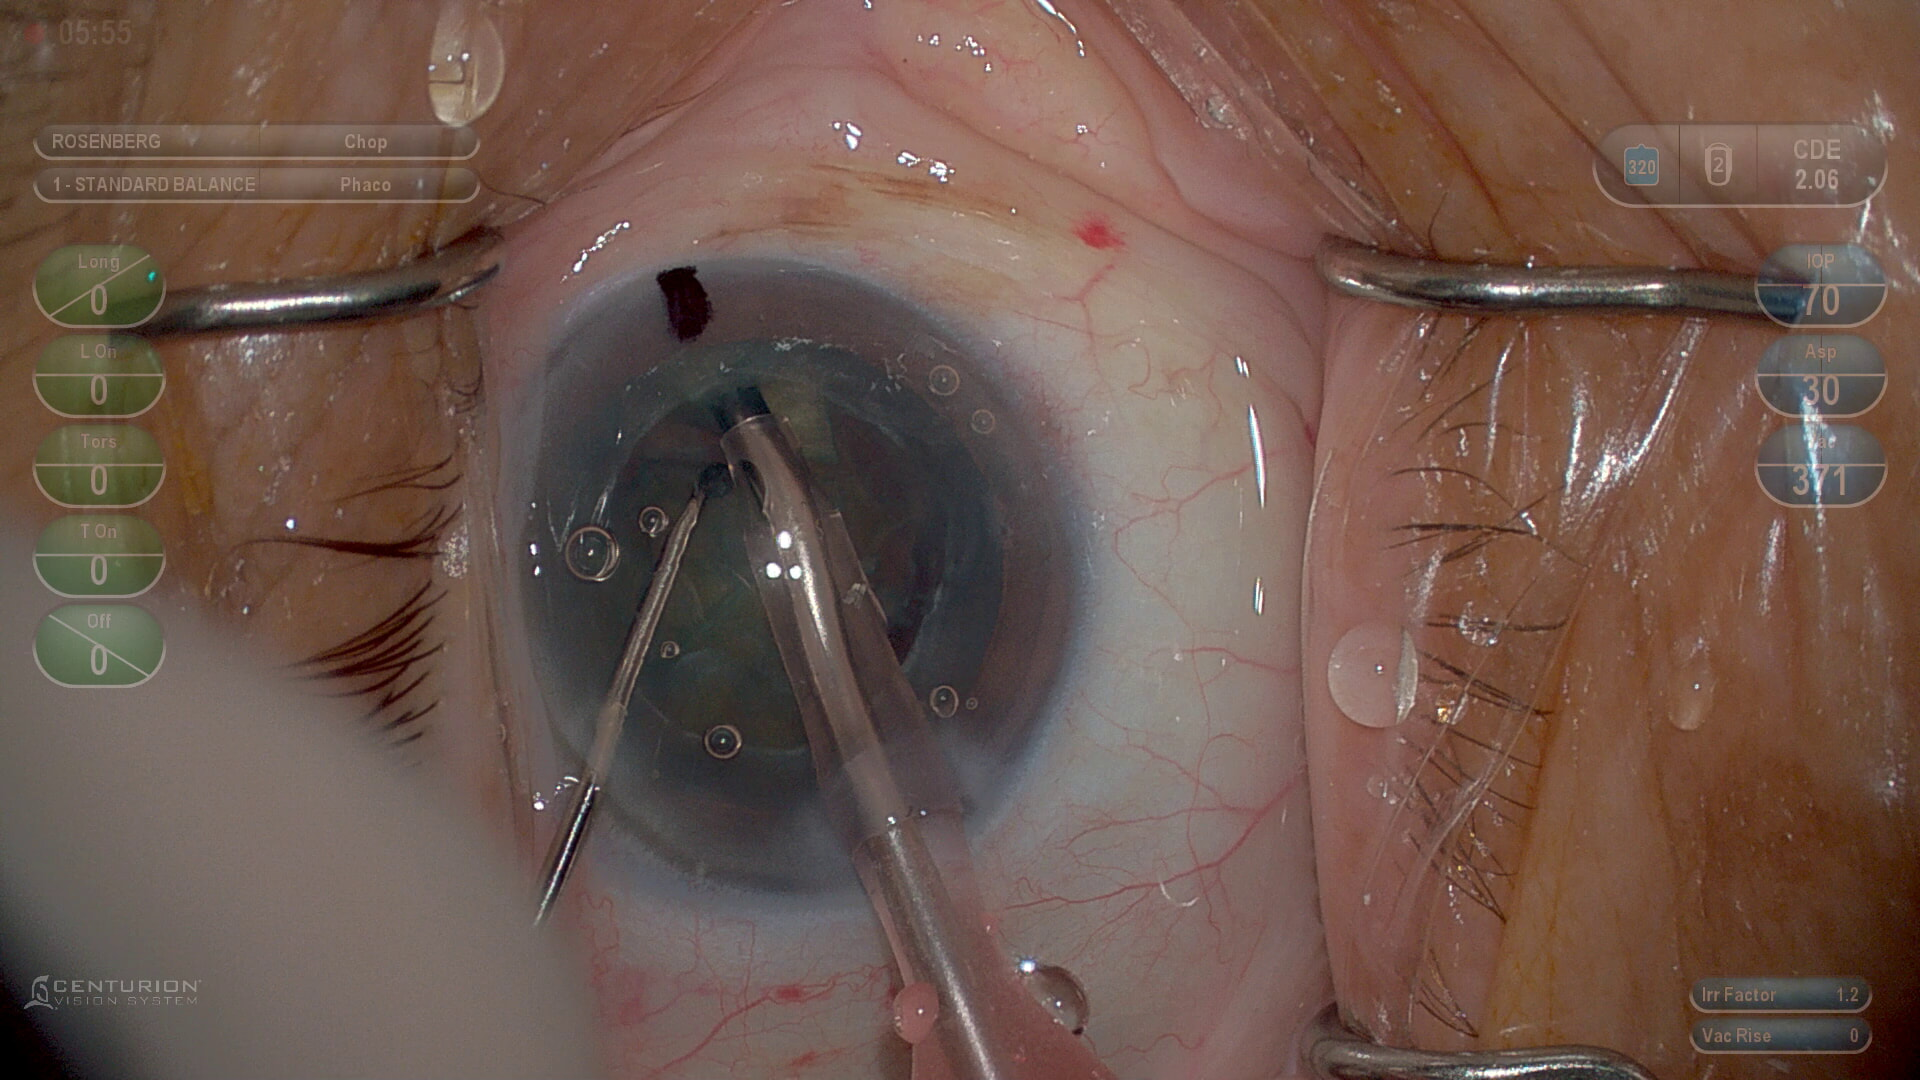iris: (523, 265, 1076, 890)
pupil: (562, 343, 1001, 795)
